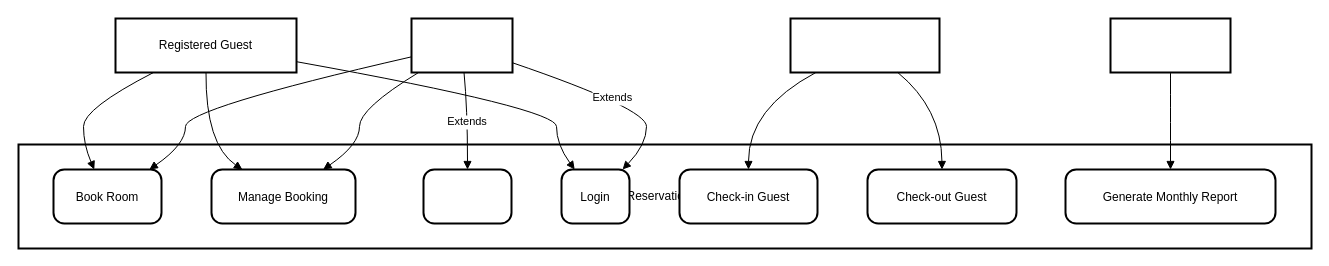
This 1329x266 diagram has some shape labels left out. The centre of each missing label's shape, as x and y in pixels:
"Guest" belongs at (461,45).
"Manager" belongs at (1170,45).
"Receptionist" belongs at (864,45).
"Register" belongs at (467,196).
